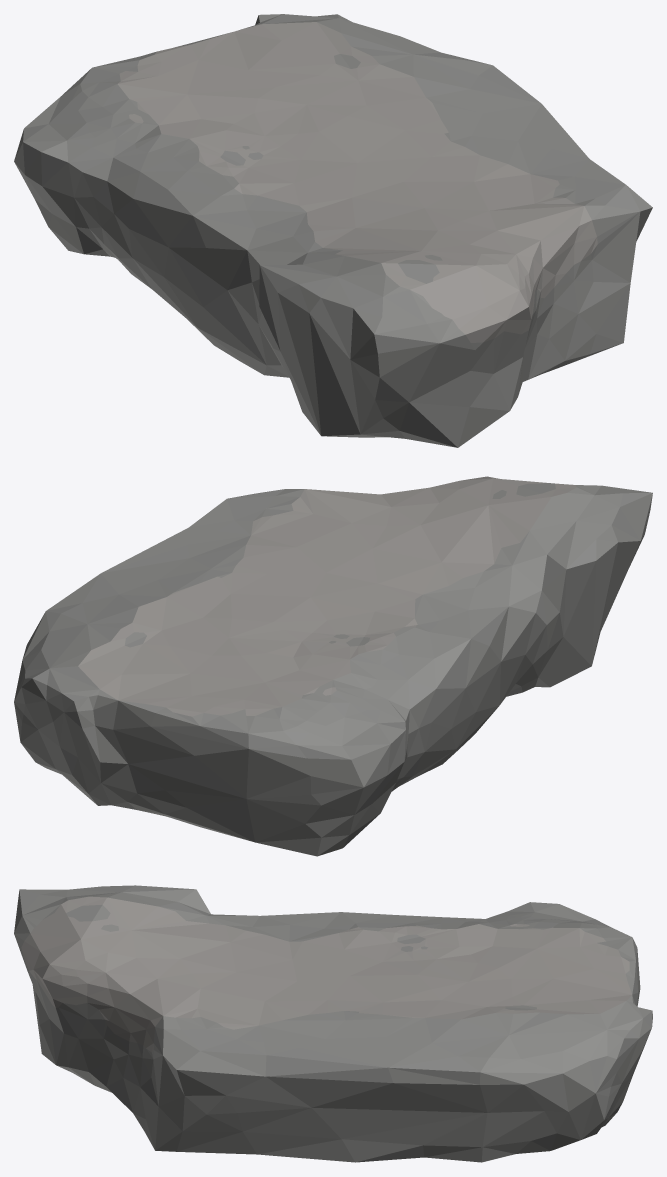
The model's file is Cavern_Floor_Wide_Straight-02.fbx.
The picture shows the model from 3 angles, top to bottom: view 1: azimuth 30°, elevation 25°; view 2: azimuth 150°, elevation 25°; view 3: azimuth 270°, elevation 25°; orthographic projection. The views are drawn at different scales.
Visible parts, largest first — view 1: Cavern_Floor_Wide_Straight-02; view 2: Cavern_Floor_Wide_Straight-02; view 3: Cavern_Floor_Wide_Straight-02.
Part boxes in pixels (<box>): Cavern_Floor_Wide_Straight-02: <box>14,14,652,447</box>; Cavern_Floor_Wide_Straight-02: <box>14,476,652,856</box>; Cavern_Floor_Wide_Straight-02: <box>14,885,652,1162</box>.
Bounding box in the file's own units: 1348 × 568 × 2079.
1 material, 1 textured.
